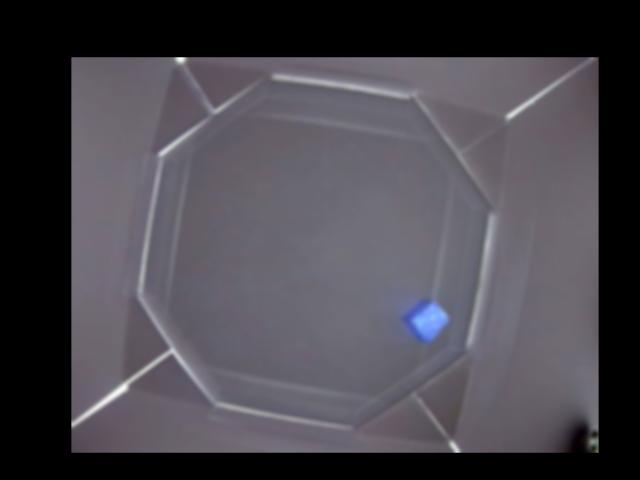Potato: (403, 295, 450, 342)
